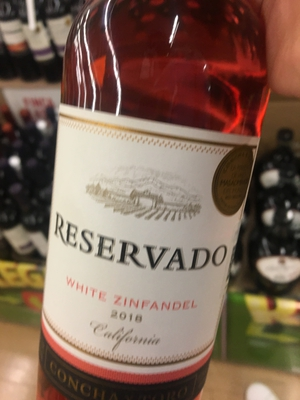reservado white zinfandel: (35, 8, 259, 400)
